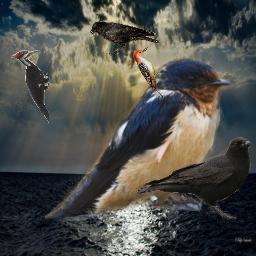Crow: (136, 137, 251, 220), (88, 21, 159, 55)
Swallow: (45, 56, 234, 222)
Woodpecker: (11, 50, 49, 125), (133, 47, 163, 98)
